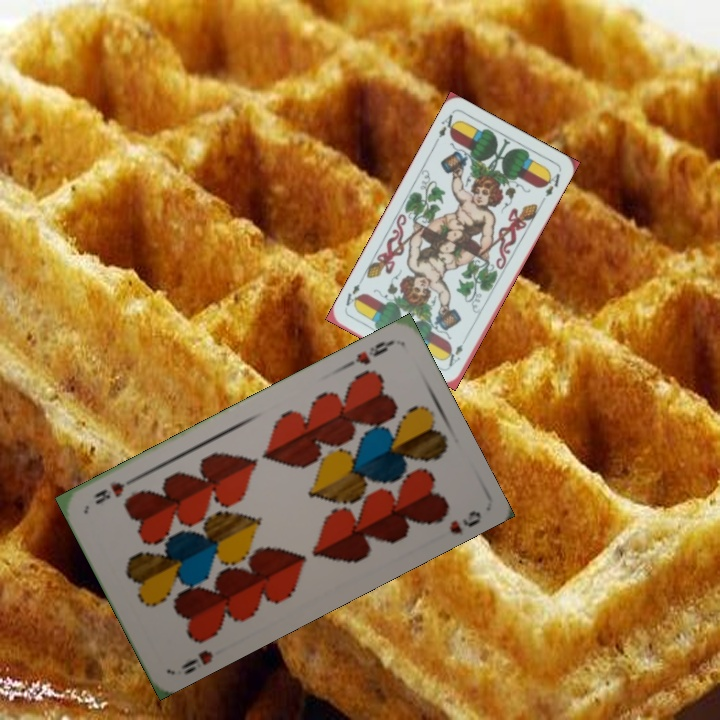EA: (430, 110, 460, 147), (445, 332, 471, 369)
H9: (341, 337, 396, 371), (176, 646, 216, 678)
